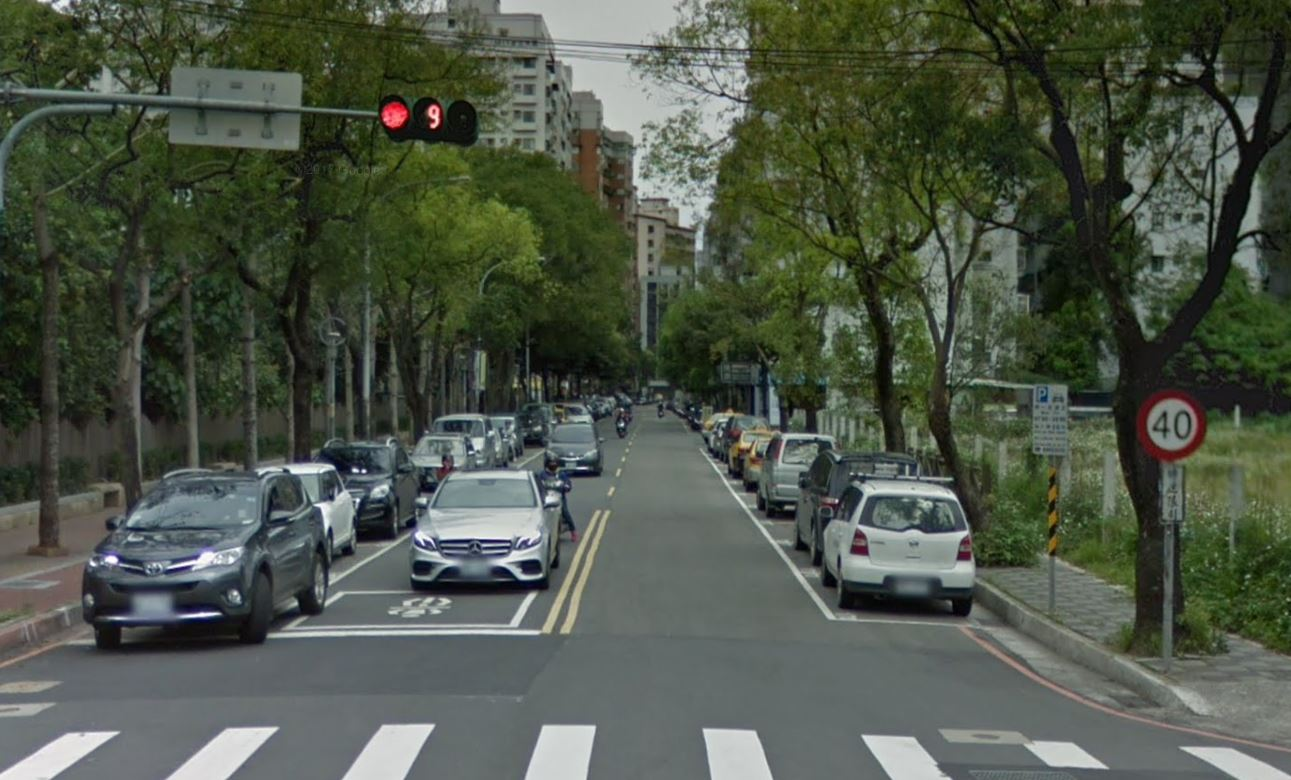Speed_limit_40km: (1135, 388, 1208, 461)
Traffic_light_red: (377, 96, 478, 137)
